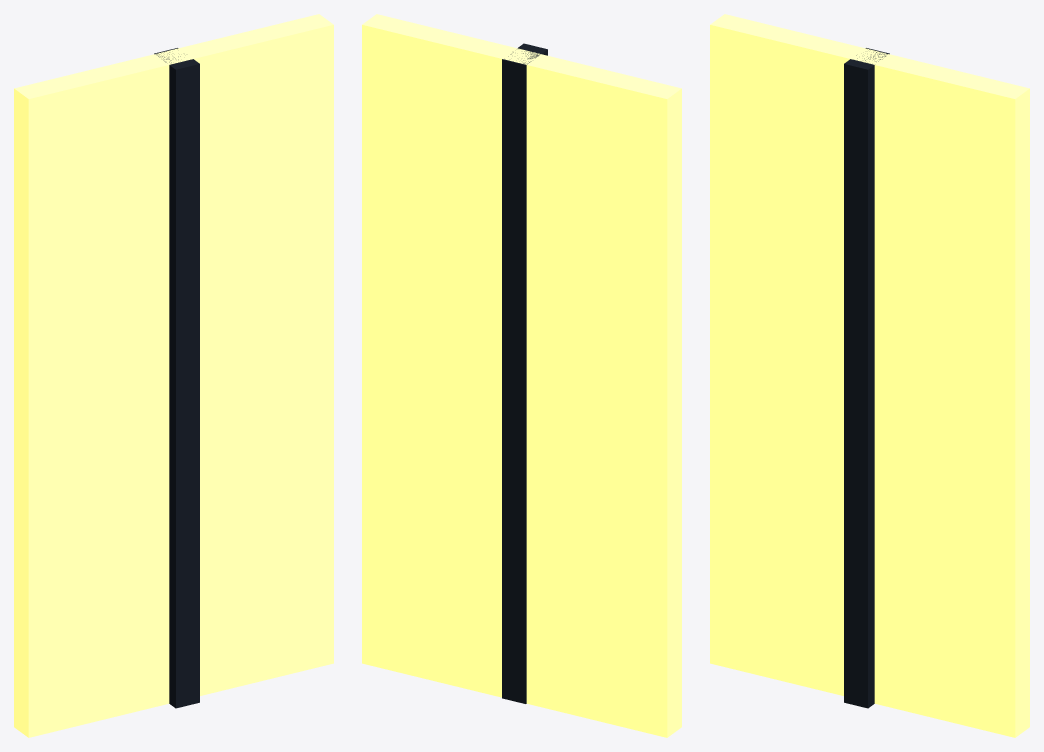
Rendered from pane_lancet.glb.
3 views of the same model, side by side, from view 1: azimuth 30°, elevation 25°; view 2: azimuth 150°, elevation 25°; view 3: azimuth 330°, elevation 25° (orthographic).
Visible parts, largest first — view 1: pane_lancet; view 2: pane_lancet; view 3: pane_lancet.
Boxes of the visible parts, x1,y1,x2,y2 form: pane_lancet: [14, 14, 333, 737]; pane_lancet: [362, 14, 681, 737]; pane_lancet: [710, 14, 1029, 737].
Bounding box in the file's own units: 1.2 × 2.4 × 0.15.
